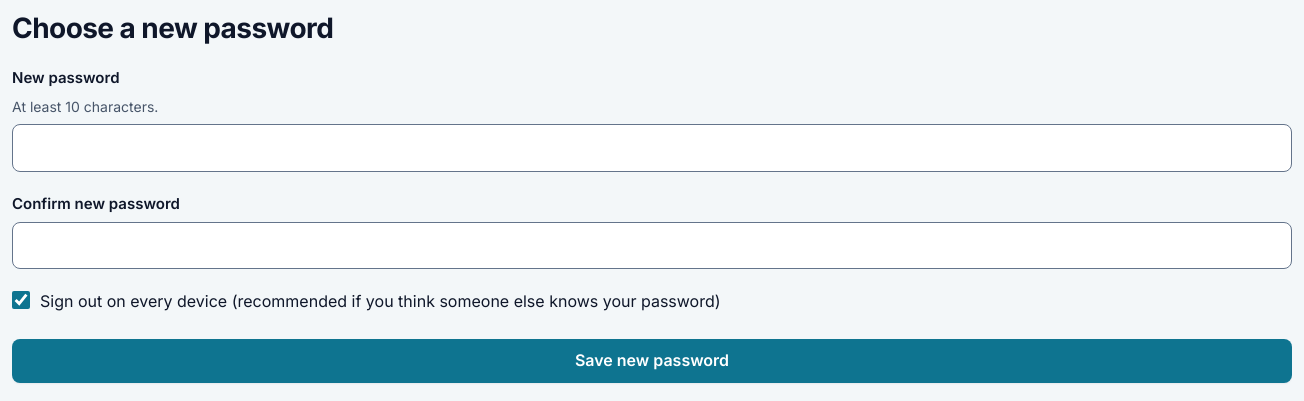
Scenario: ResetPasswordForm › can keep other sessions signed in
Step 1. Type "a-brand-new-password" into the password field labelled "New password" → (652, 148), box top-left (12, 124), bottom-right (1292, 172)
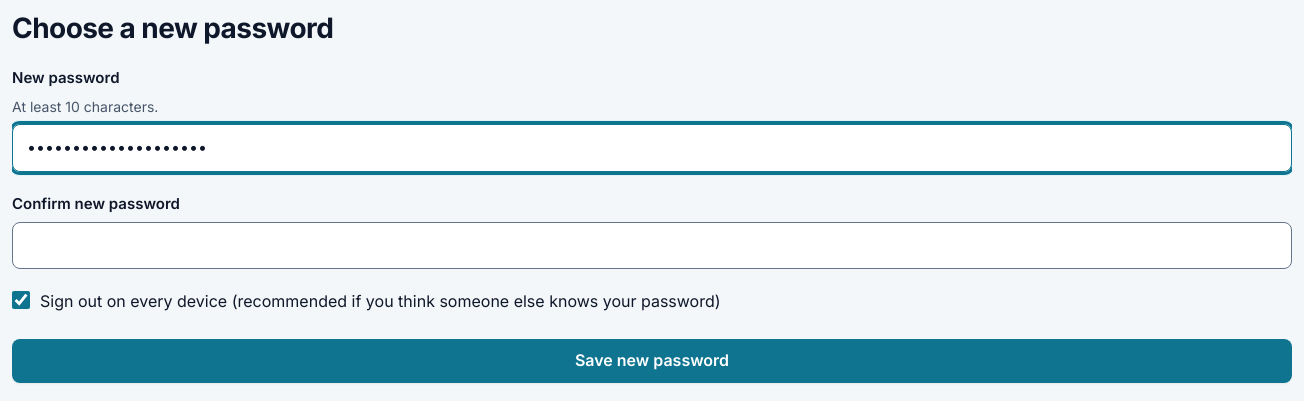
Step 2. Type "a-brand-new-password" into the password field labelled "Confirm new password" → (652, 245), box top-left (12, 222), bottom-right (1292, 269)
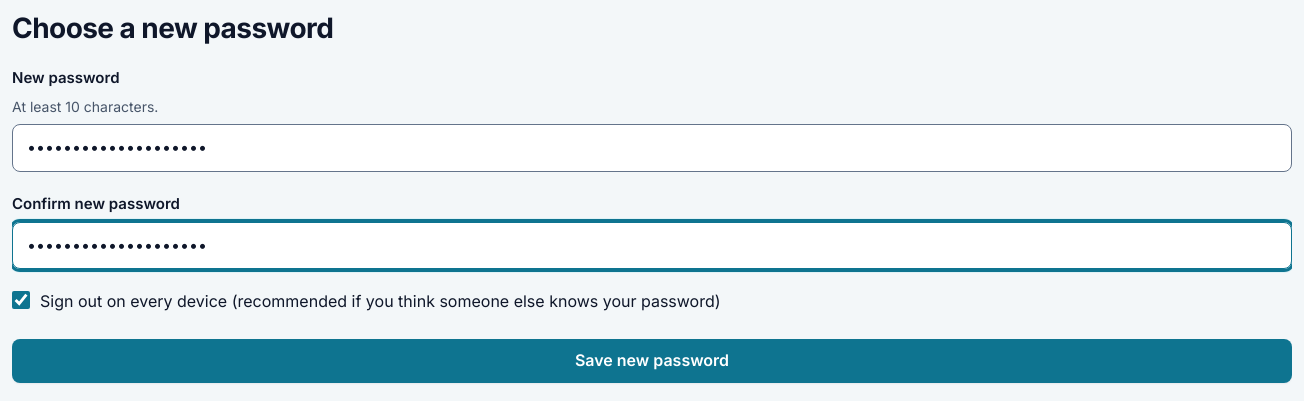
Step 3. Click the checkbox labelled "Sign out on every device" → (21, 300), box top-left (12, 291), bottom-right (30, 309)
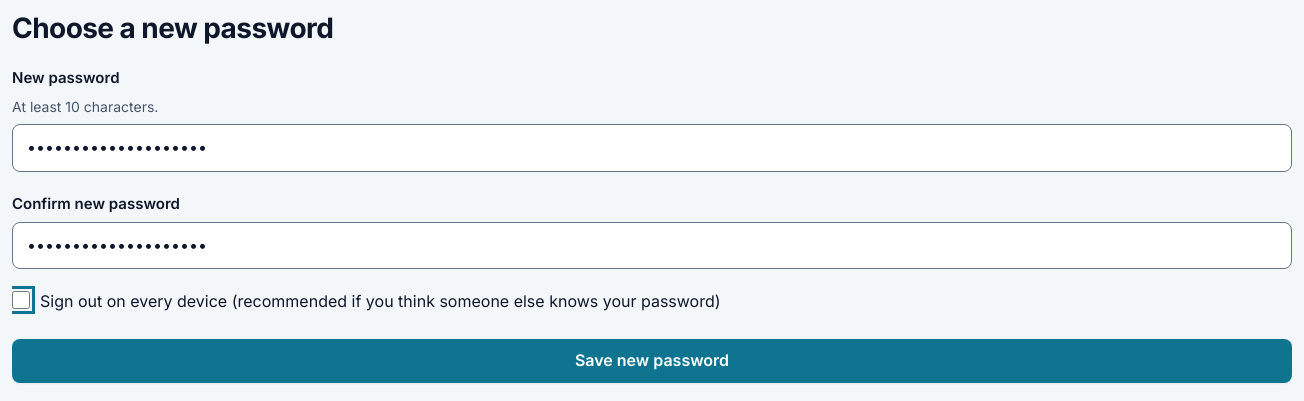
Step 4. Click the button "Save new password" → (652, 361), box top-left (12, 339), bottom-right (1292, 383)
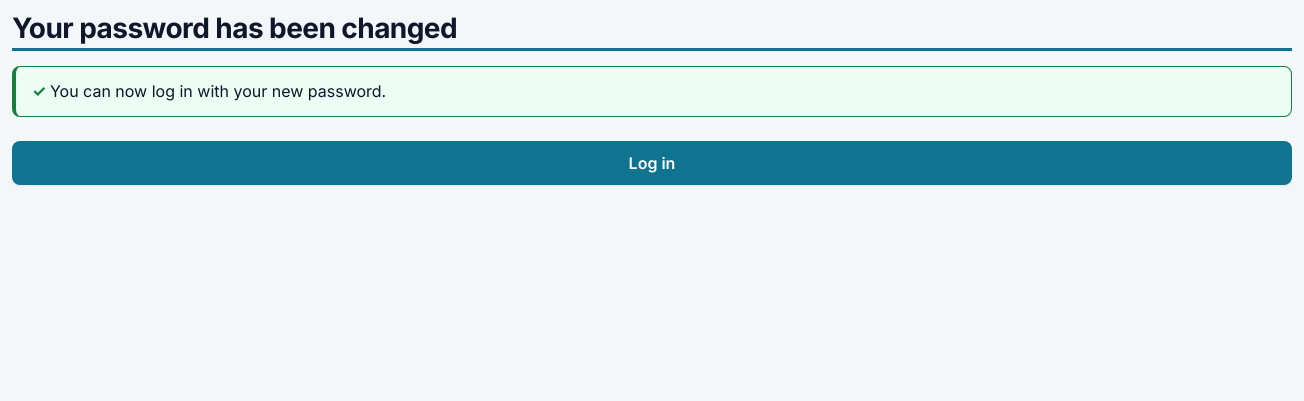
Now the heading "Your password has been changed" is shown, box top-left (12, 11), bottom-right (457, 45)
